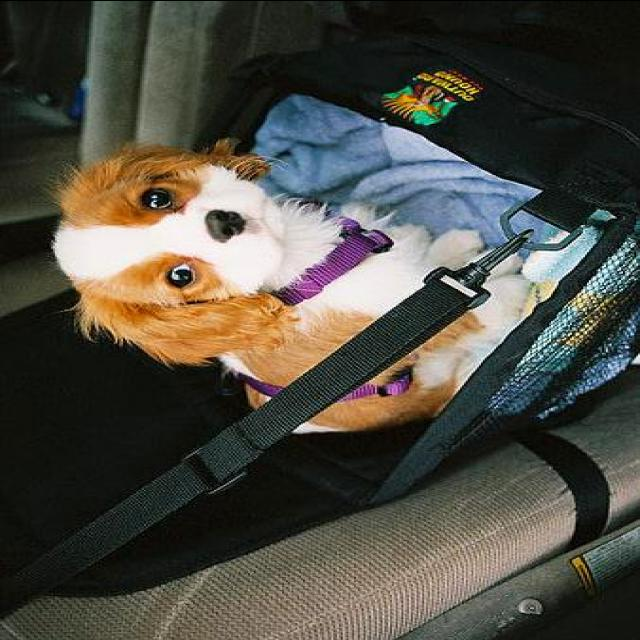blenheim_spaniel: (55, 148, 534, 434)
